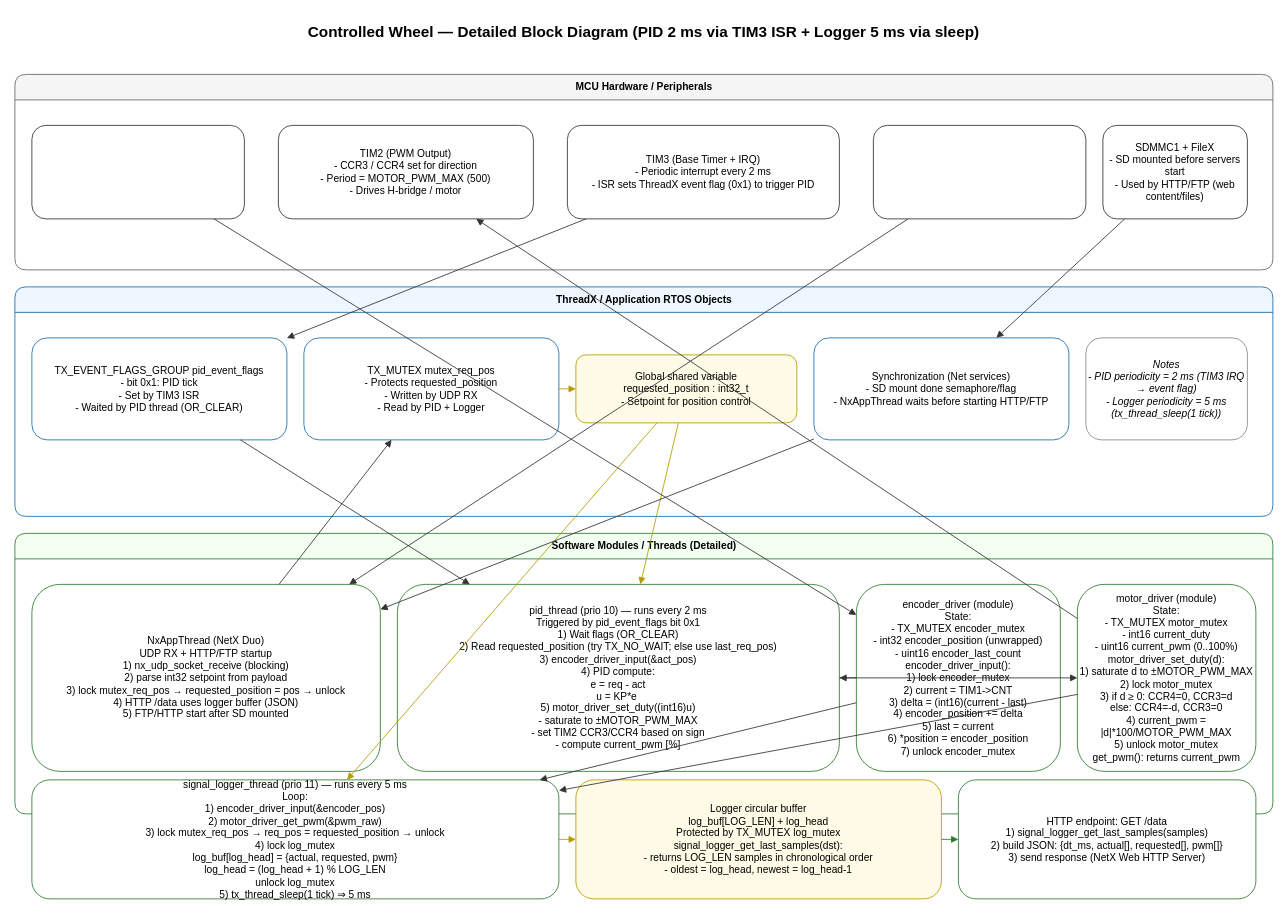
The diagram is 1288 pixels wide and 915 high, and some of its shapes have lost their labels. Each missing label, with the centre of its shape:
"ETH (RMII) - NetX Duo IP stack - UDP setpoint RX - HTTP / FTP services" goes at point 979,172.
"TIM1 (Encoder Mode) - Counter CNT (16-bit) - Used as position sensor source" goes at point 137,172.
